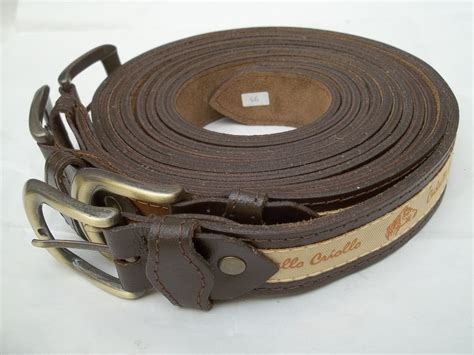cuero: (30, 25, 458, 311)
